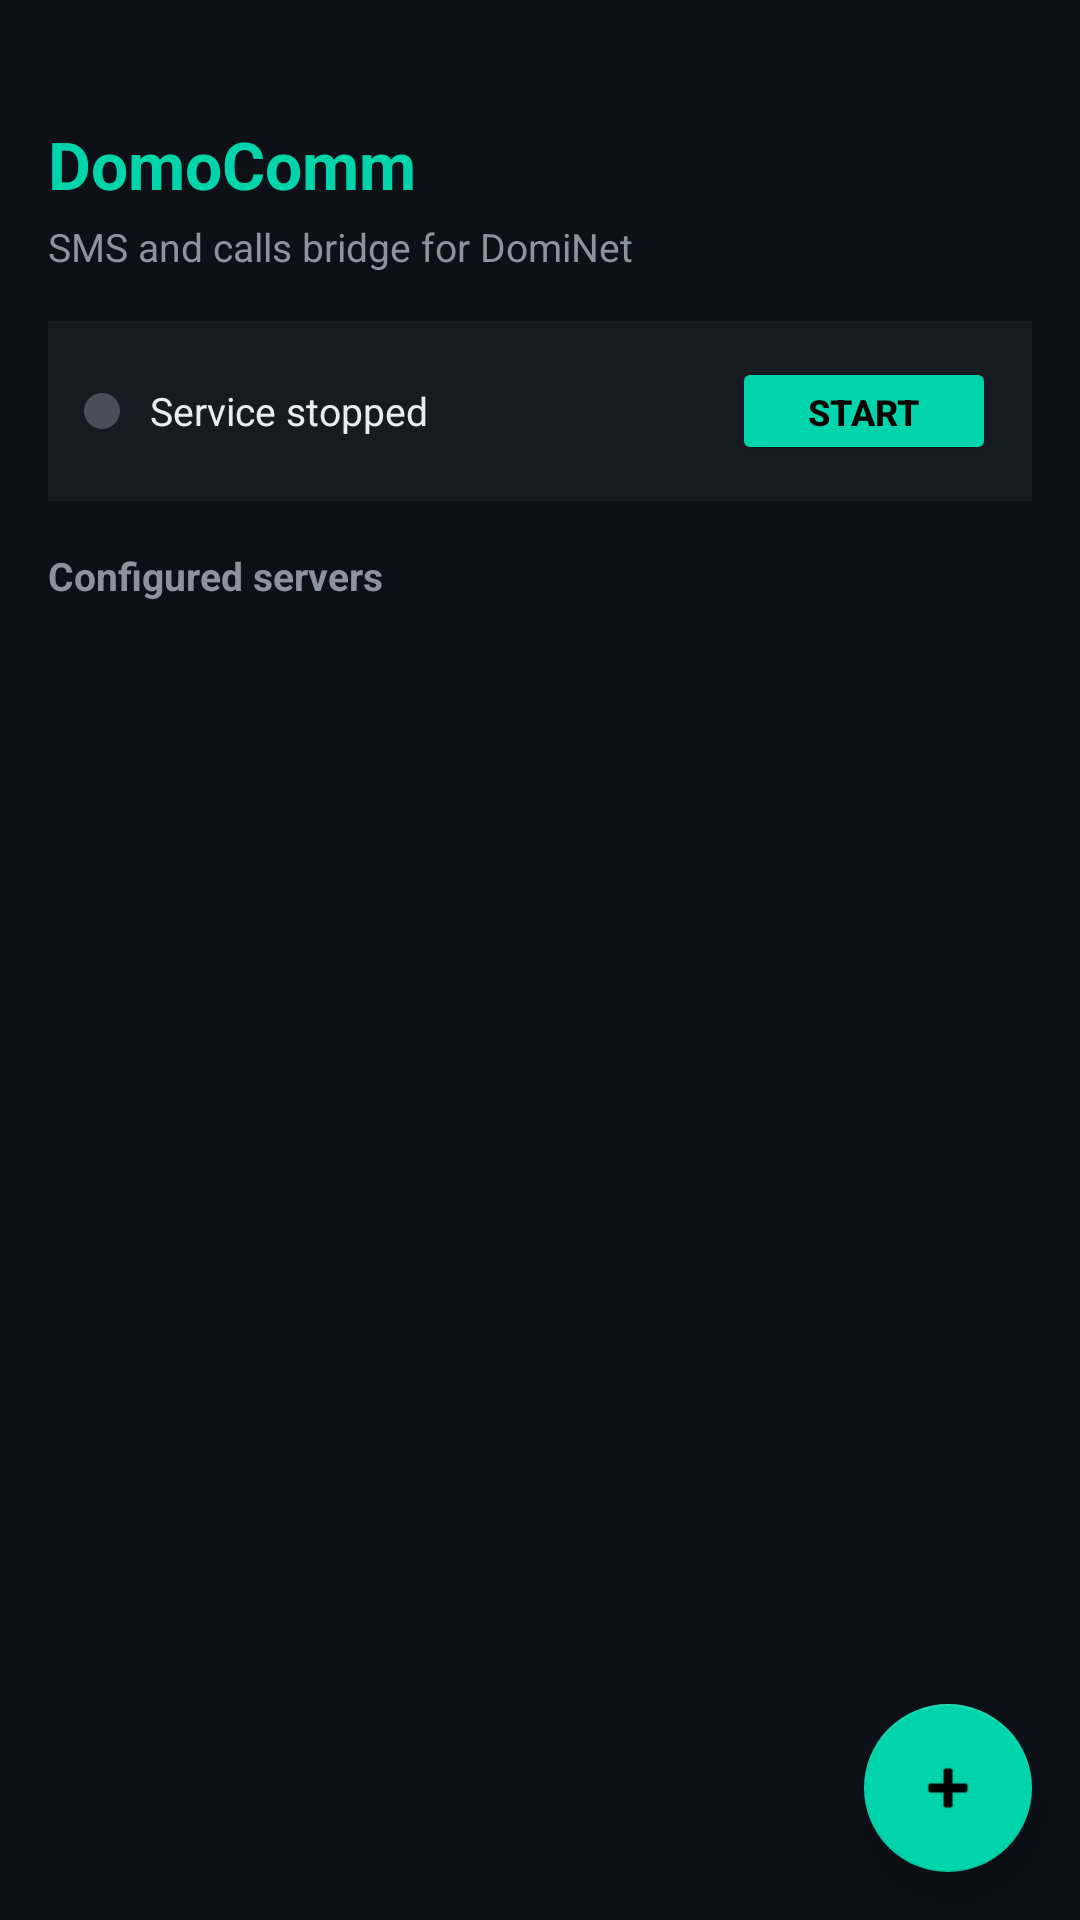

Icon click points for this 1080x1920 phone screenshot, format [x,y]:
Add a server: [948,1788]
